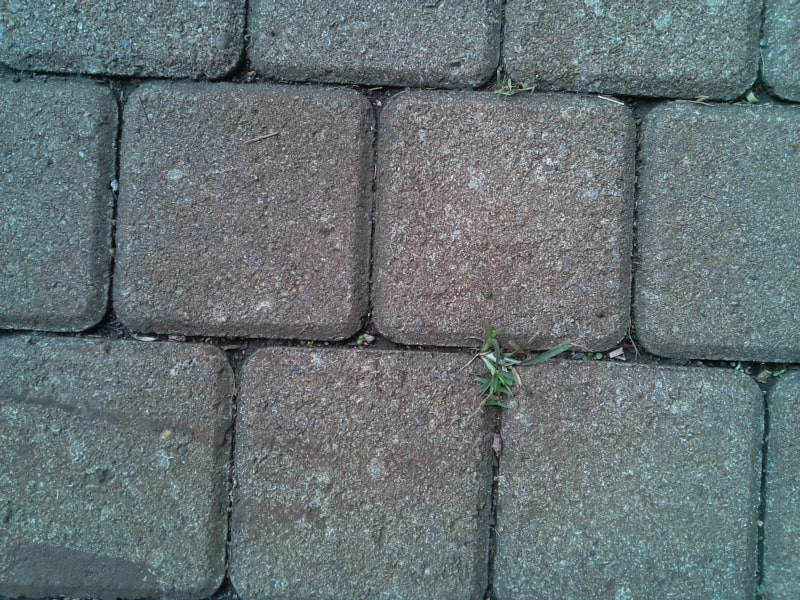Weed: (471, 330, 545, 403), (493, 69, 536, 95)
